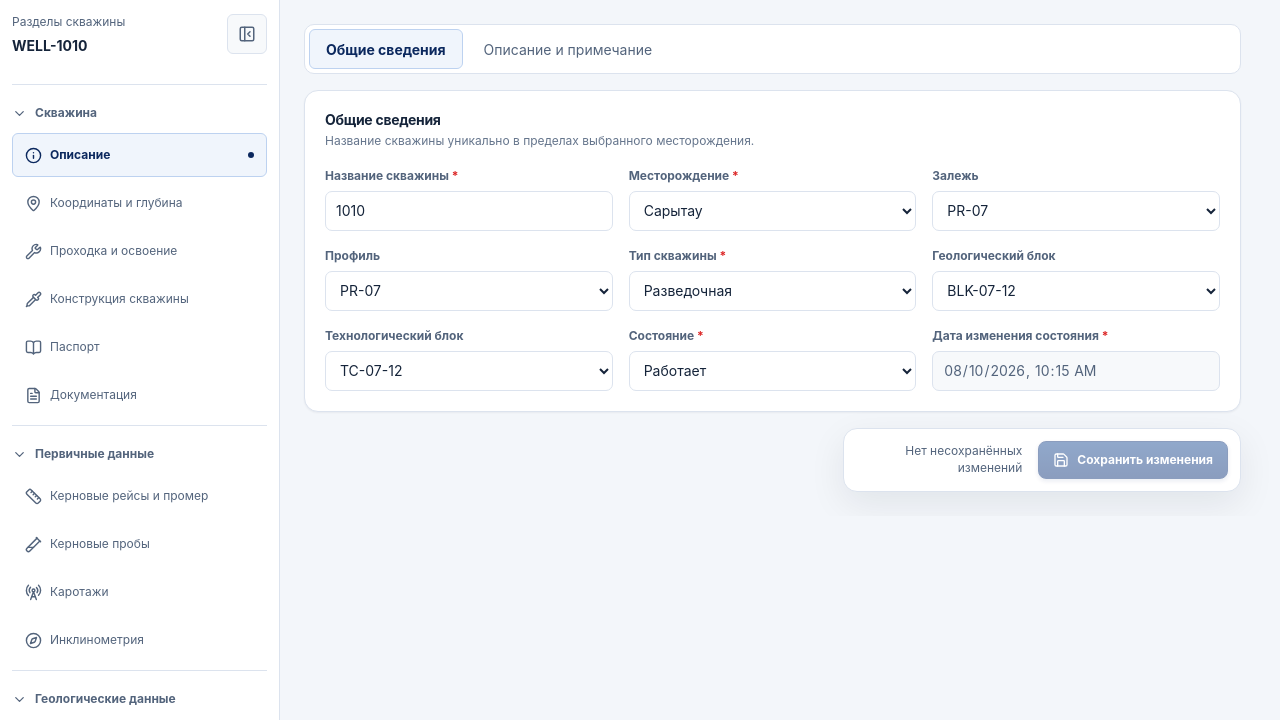
it: BGD object → section → workspace › keeps the current tab when saving fails validation
Clear the number field labelled "Название скважины *" at (469, 211), box [325,191,613,231]
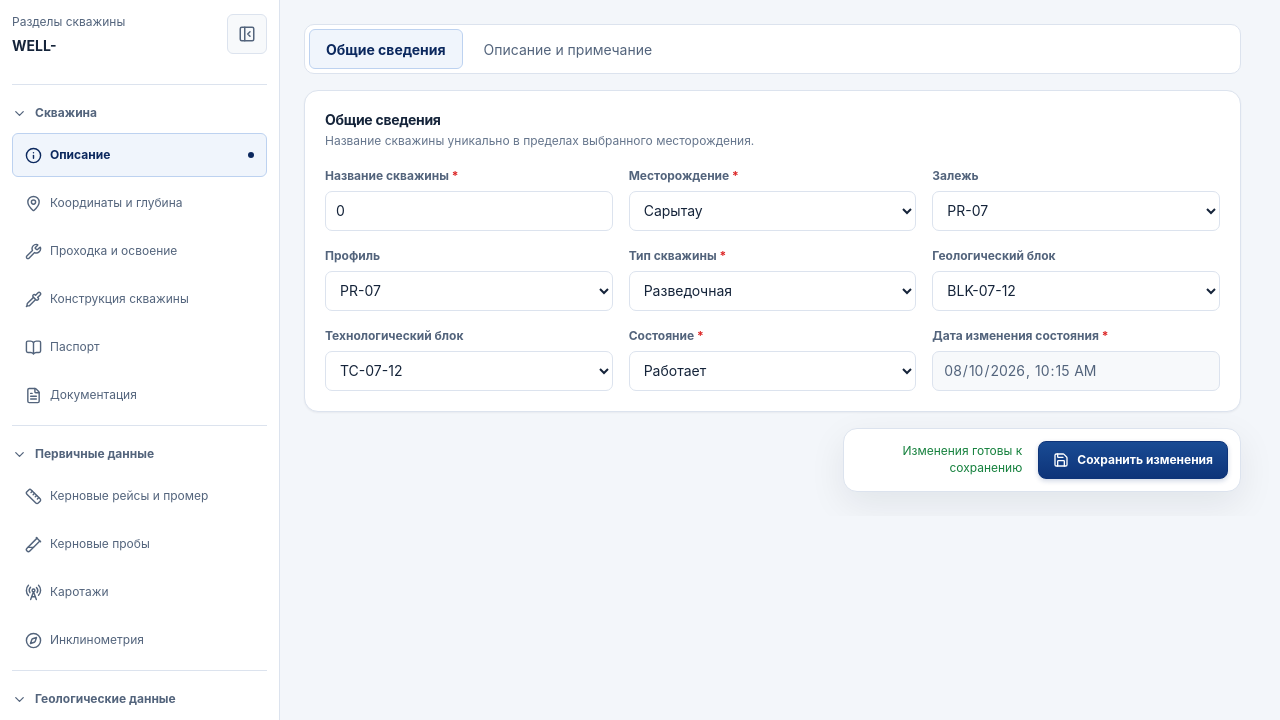
Click the button "Паспорт" at (140, 347), box [12,325,267,369]
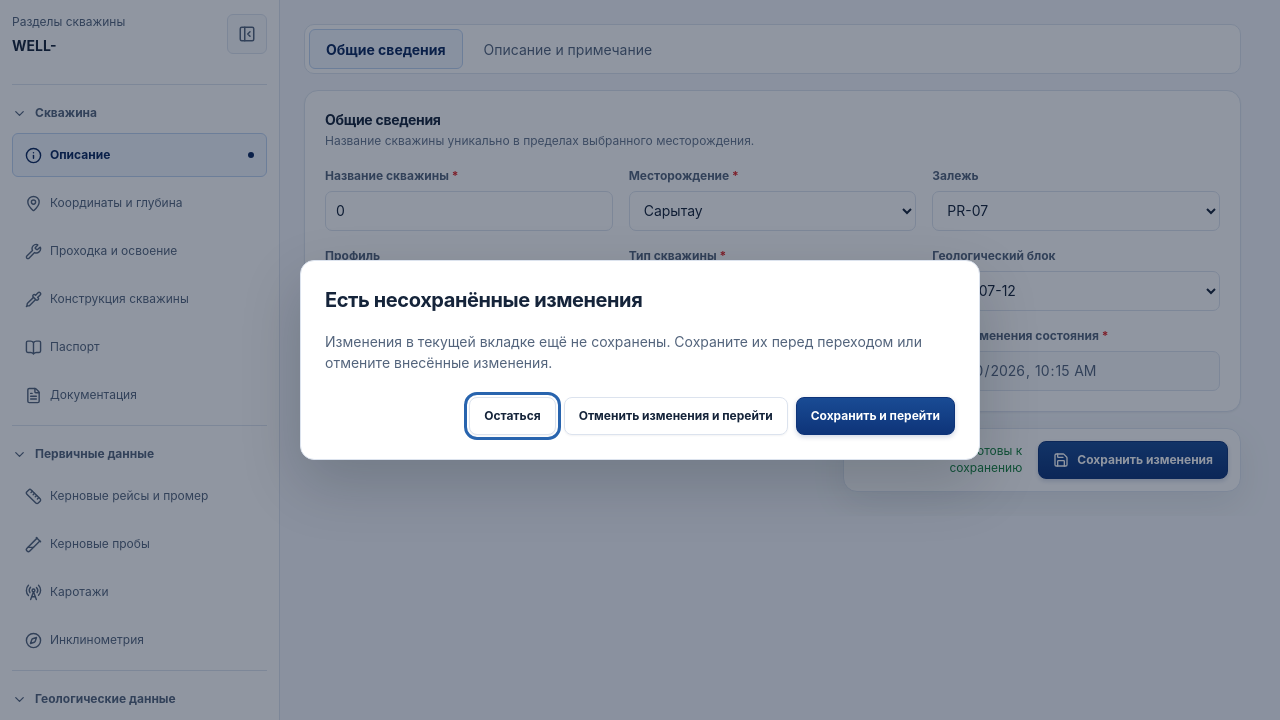
Click the button "Сохранить и перейти" at (875, 416), box [796,397,955,435]
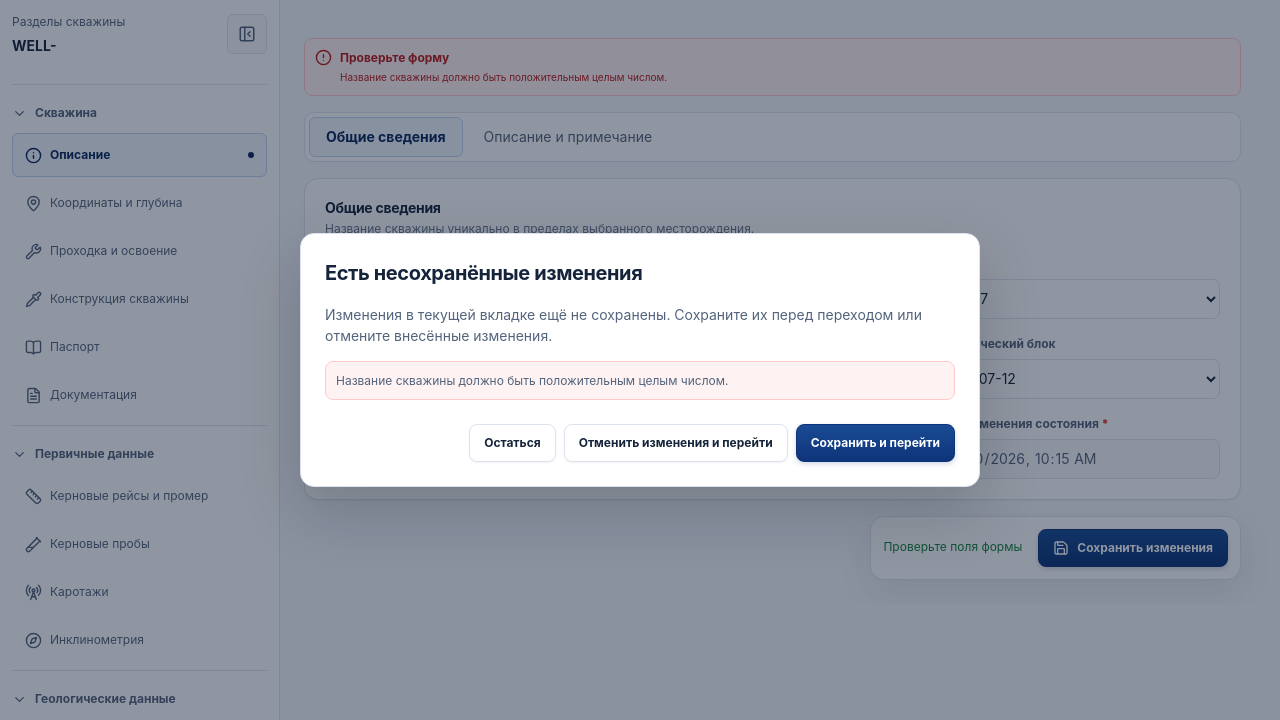
Expected: the number field labelled "Название скважины *" is shown, [325,279,613,319]
Expected: the button "Остаться" is enabled, [469,424,556,462]
Expected: the dialog shows "Название скважины", [336,373,728,388]
